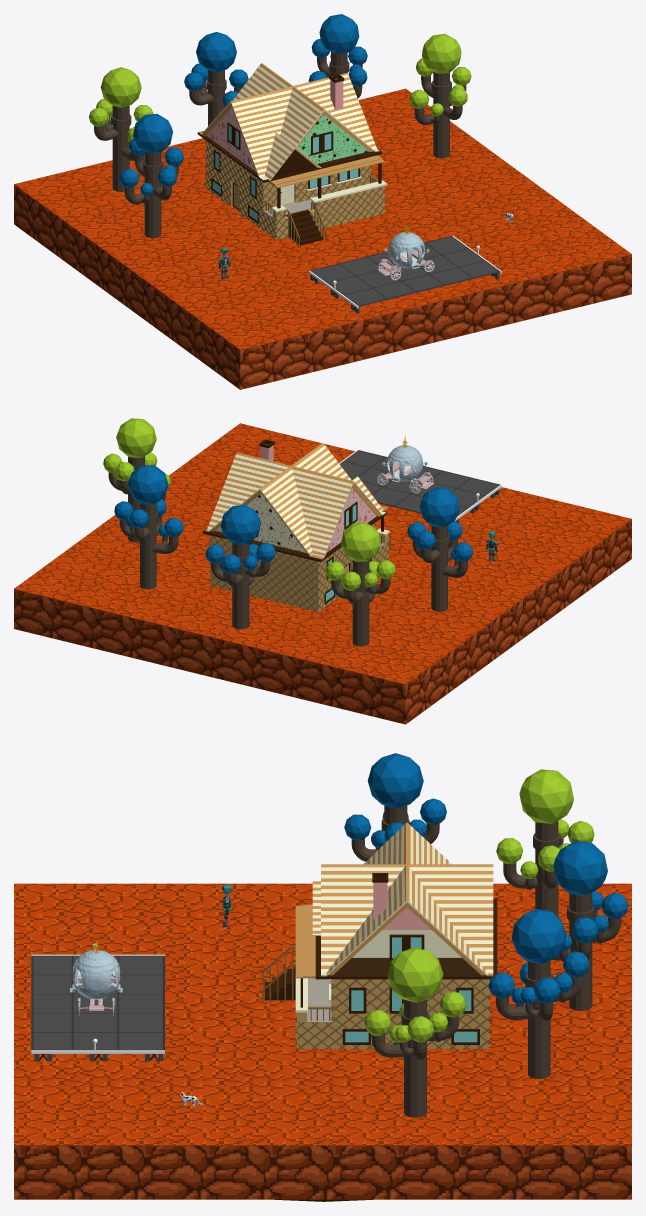
The picture shows the model from 3 angles, top to bottom: view 1: azimuth 30°, elevation 25°; view 2: azimuth 150°, elevation 25°; view 3: azimuth 270°, elevation 25°; orthographic projection. The views are drawn at different scales.
Visible parts, largest first — view 1: Cube.001, Cube.1102, VEHICLES_FANTASY_CARRIAGE; view 2: Cube.001, Cube.1102, VEHICLES_FANTASY_CARRIAGE; view 3: Cube.001, Cube.1102, VEHICLES_FANTASY_CARRIAGE.
Part boxes in pixels (x1,y1,x2,y2): Cube.001: (14, 14, 631, 389); Cube.1102: (197, 63, 387, 246); VEHICLES_FANTASY_CARRIAGE: (377, 223, 434, 280); Cube.001: (14, 418, 631, 724); Cube.1102: (202, 439, 390, 611); VEHICLES_FANTASY_CARRIAGE: (377, 436, 433, 493); Cube.001: (14, 753, 631, 1199); Cube.1102: (262, 823, 497, 1049); VEHICLES_FANTASY_CARRIAGE: (70, 939, 122, 1015).
Bounding box in the file's own units: 4000 × 1730 × 4000.
33 materials, 5 textured.
